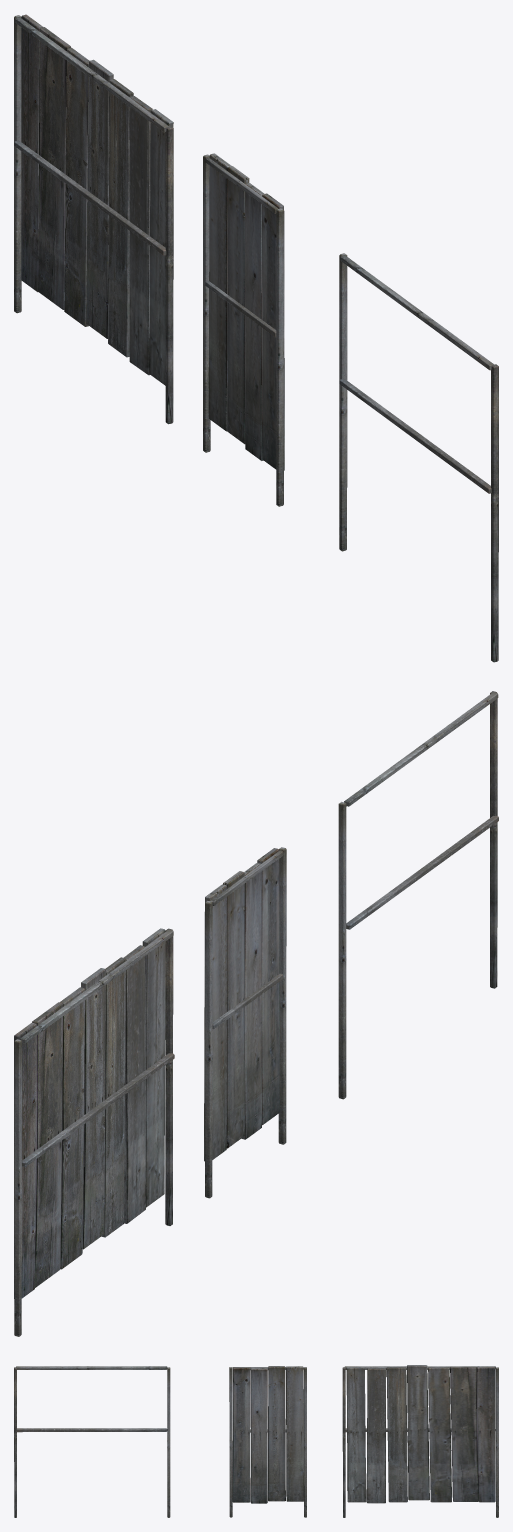
File: fence-pack.glb
3 views of the same model, one above another, from view 1: azimuth 30°, elevation 25°; view 2: azimuth 150°, elevation 25°; view 3: azimuth 270°, elevation 25° (orthographic). The views are drawn at different scales.
Visible parts, largest first — view 1: UhG81k.024, UhG81k.027, UhG81k.033; view 2: UhG81k.024, UhG81k.027, UhG81k.033; view 3: UhG81k.024, UhG81k.027, UhG81k.033.
Boxes of the visible parts, x1,y1,x2,y2 form: UhG81k.024: (14, 14, 173, 424); UhG81k.027: (203, 153, 284, 506); UhG81k.033: (339, 253, 498, 662); UhG81k.024: (14, 928, 174, 1336); UhG81k.027: (204, 847, 286, 1198); UhG81k.033: (338, 691, 498, 1099); UhG81k.024: (342, 1365, 498, 1517); UhG81k.027: (229, 1366, 306, 1517); UhG81k.033: (14, 1366, 170, 1517).
Bounding box in the file's own units: 6.16 × 138 × 396.
1 material, 1 textured.
